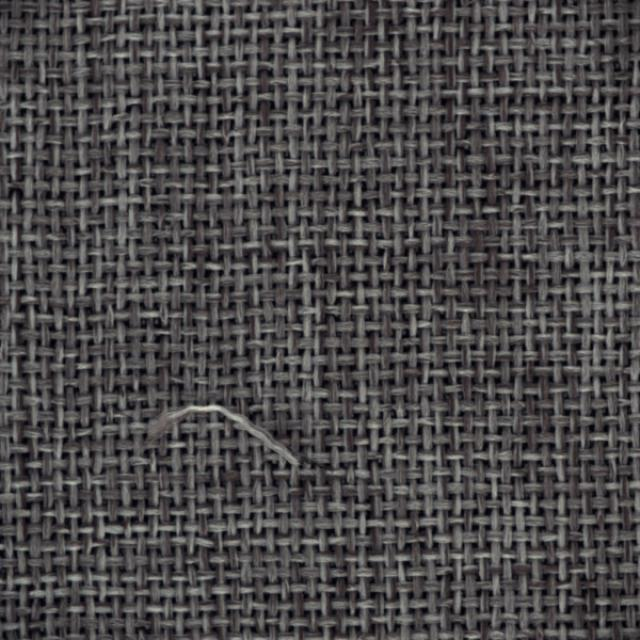Thread: (134, 398, 308, 471)
